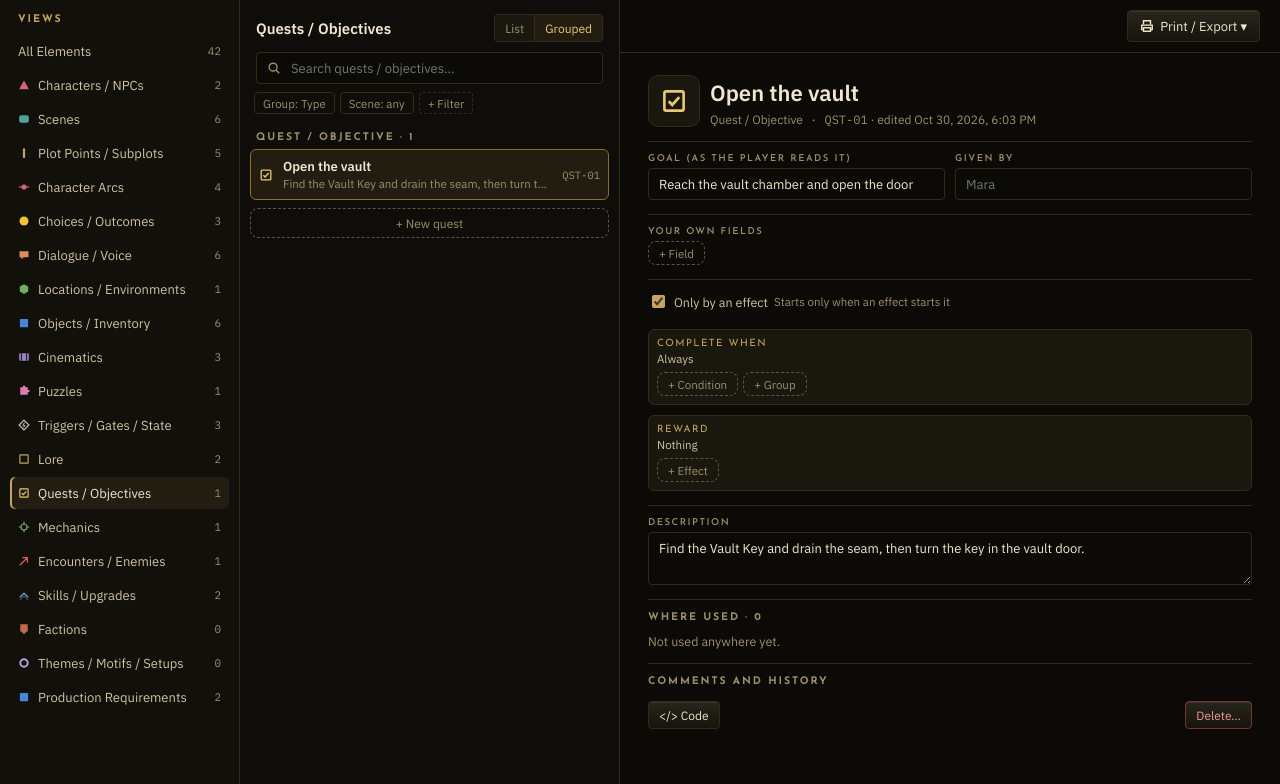
Only by an effect › stands in for a quest's start rule, and switches back to it
Expected: the text "Starts only when an effect starts it" is shown, left=774, top=294, right=950, bottom=309
Expected: the text "Starts when" is not shown
Click the checkbox labelled "Only by an effect Starts only when an effect starts it".
click(658, 302)  # box left=652, top=295, right=665, bottom=308
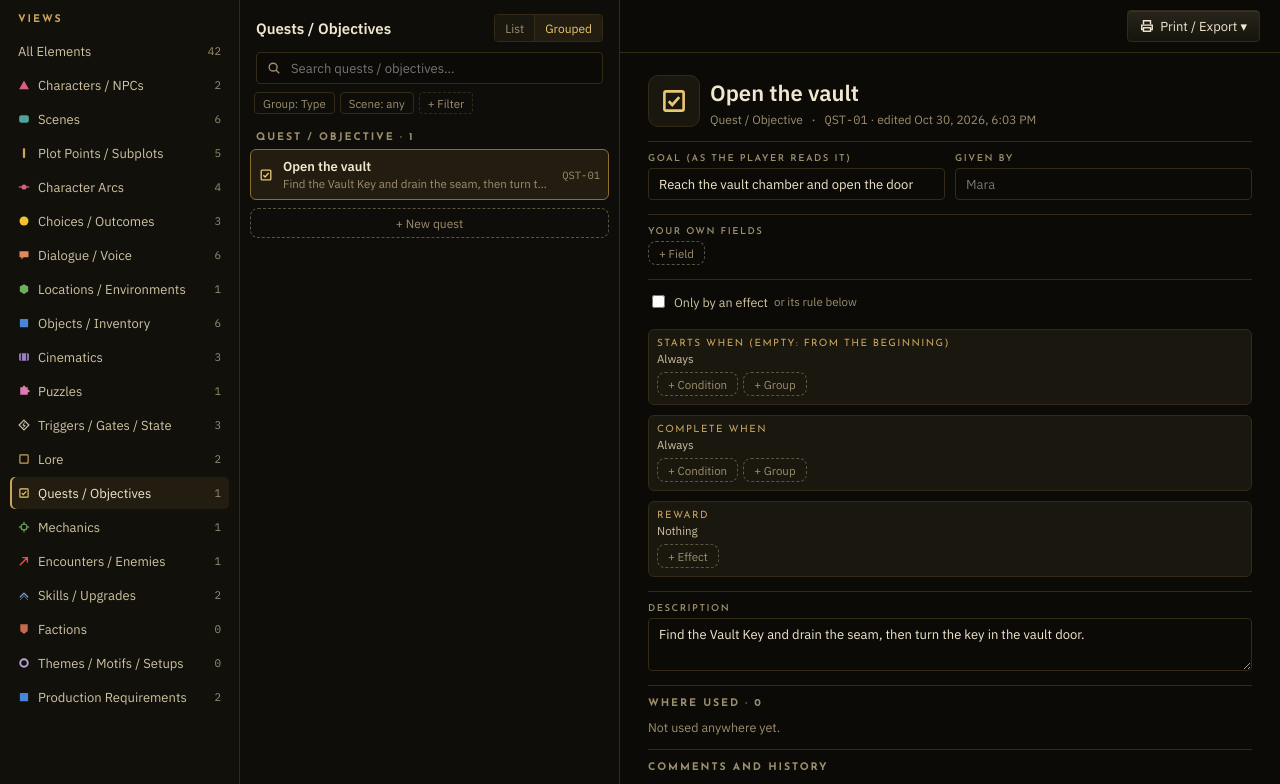
Expected: the text "Starts when (empty: from the beginning)" is shown, left=657, top=338, right=950, bottom=349
